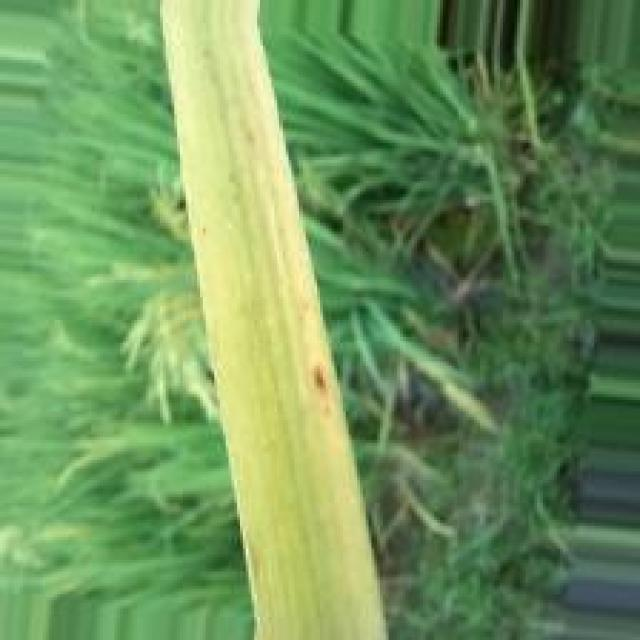Brown_Spot: (305, 359, 330, 398)
